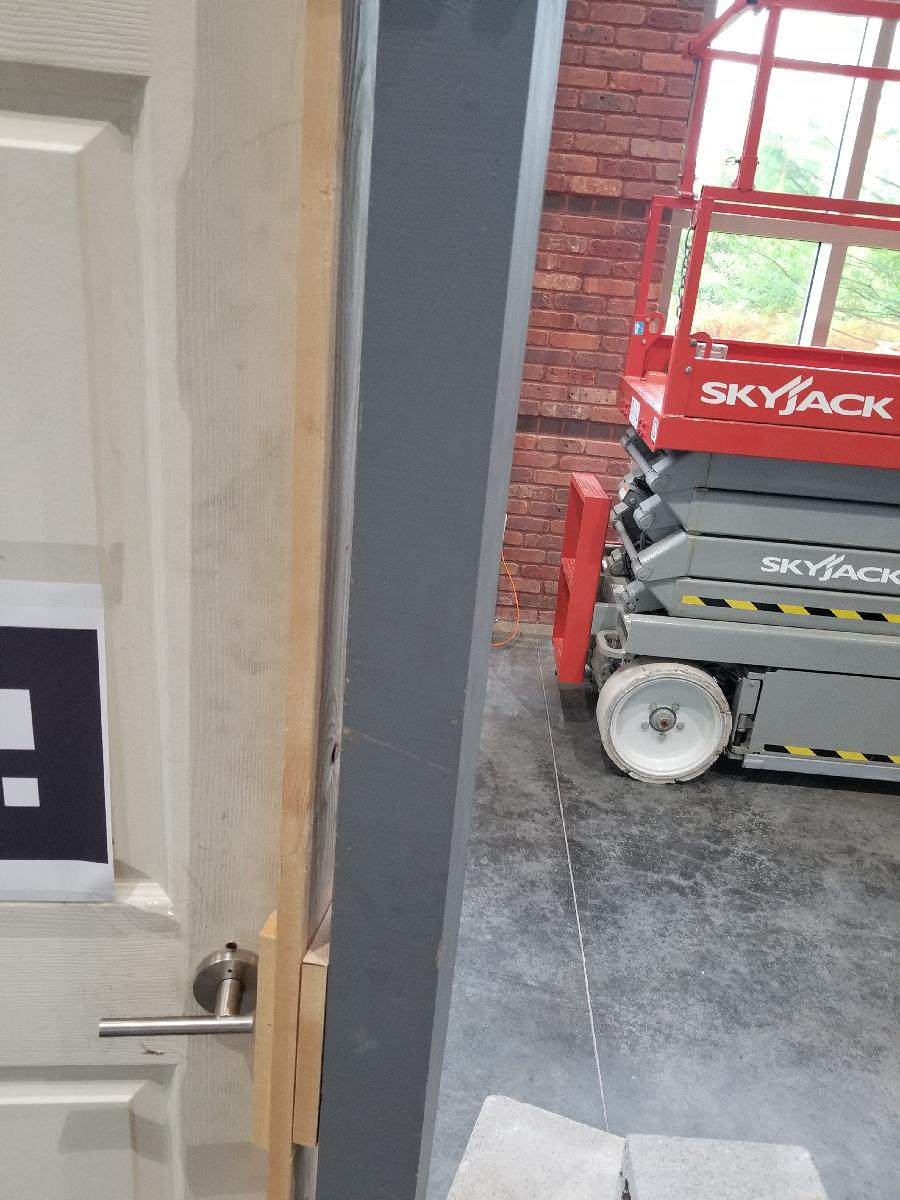doorHandle: (98, 940, 276, 1076)
